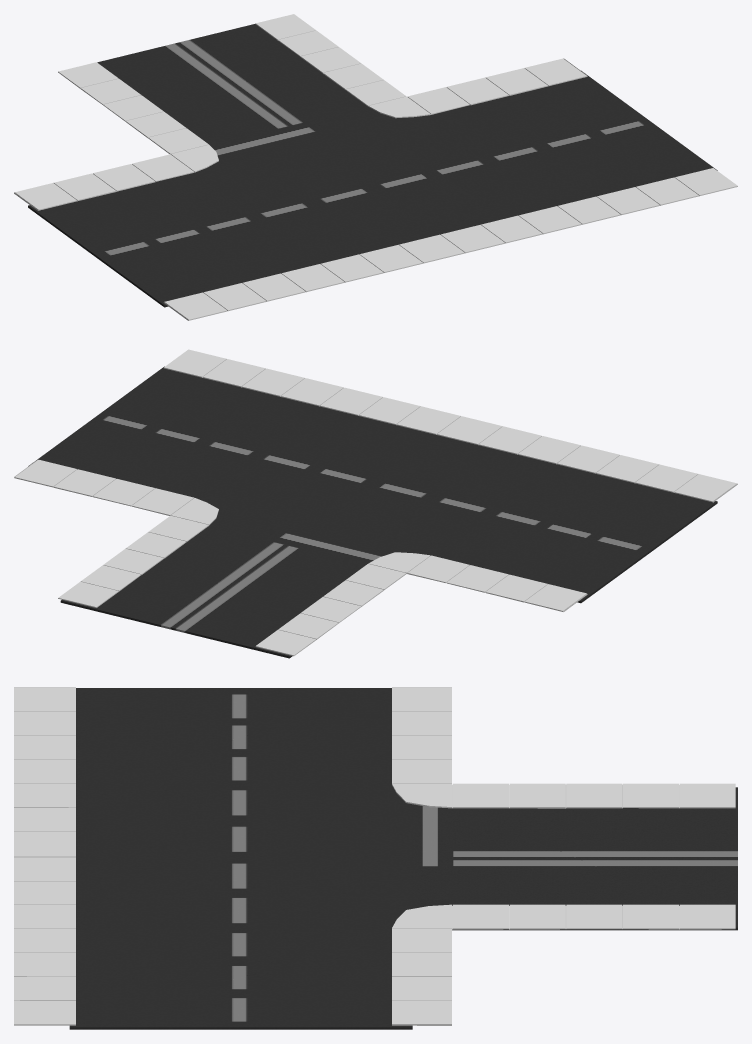
The model's file is Model_Skrzyzowanie.fbx.
3 renders of one model, top to bottom at view 1: azimuth 30°, elevation 25°; view 2: azimuth 150°, elevation 25°; view 3: azimuth 270°, elevation 25°, orthographic. The views are drawn at different scales.
Visible parts, largest first — view 1: Mesh_Skrzyzowanie_Jezdnia, Mesh_Skrzyzowanie_ChodnikN, Mesh_Skrzyzowanie_ChodnikS; view 2: Mesh_Skrzyzowanie_Jezdnia, Mesh_Skrzyzowanie_ChodnikN, Mesh_Skrzyzowanie_ChodnikS; view 3: Mesh_Skrzyzowanie_Jezdnia, Mesh_Skrzyzowanie_ChodnikN, Mesh_Skrzyzowanie_ChodnikS.
Boxes of the visible parts, <box> form: Mesh_Skrzyzowanie_Jezdnia: <box>28,23,717,307</box>; Mesh_Skrzyzowanie_ChodnikN: <box>14,14,587,210</box>; Mesh_Skrzyzowanie_ChodnikS: <box>163,168,737,320</box>; Mesh_Skrzyzowanie_Jezdnia: <box>28,366,717,658</box>; Mesh_Skrzyzowanie_ChodnikN: <box>14,459,587,656</box>; Mesh_Skrzyzowanie_ChodnikS: <box>163,349,737,502</box>; Mesh_Skrzyzowanie_Jezdnia: <box>69,688,737,1029</box>; Mesh_Skrzyzowanie_ChodnikN: <box>392,687,735,1025</box>; Mesh_Skrzyzowanie_ChodnikS: <box>14,687,75,1025</box>.
Size of the model in its own units: 1408 by 8.9 by 1562.
